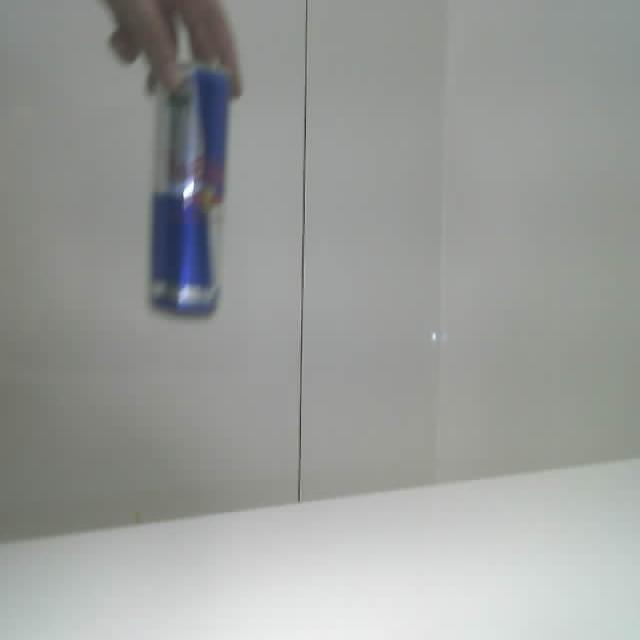redbull can: (150, 63, 229, 315)
